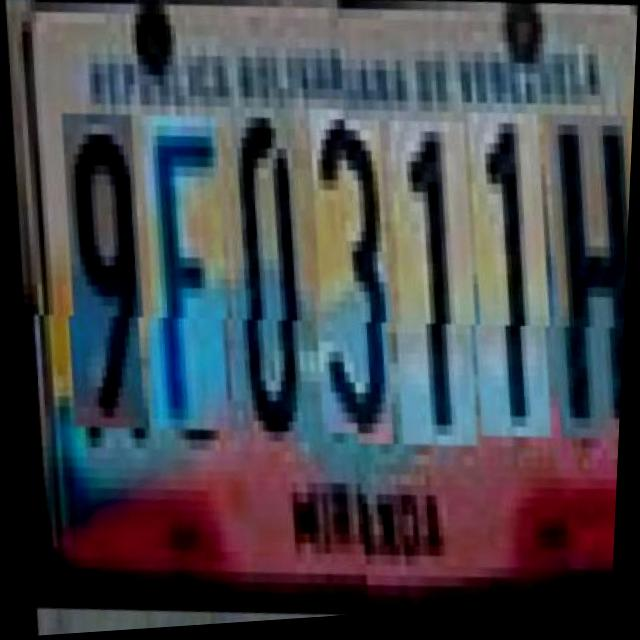0: (217, 111, 321, 457)
1: (377, 114, 489, 451), (455, 105, 563, 442)
3: (296, 113, 405, 449)
9: (50, 119, 156, 444)
f: (129, 121, 240, 446)
h: (533, 107, 635, 445)
